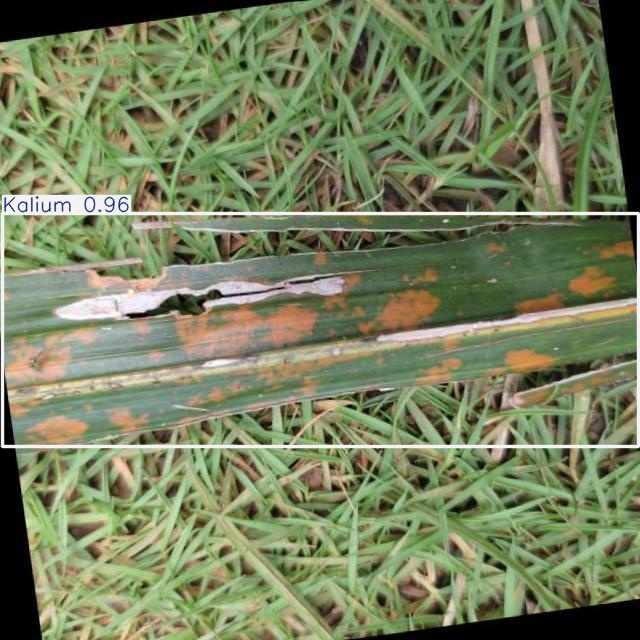Kalium: (3, 213, 638, 446)
